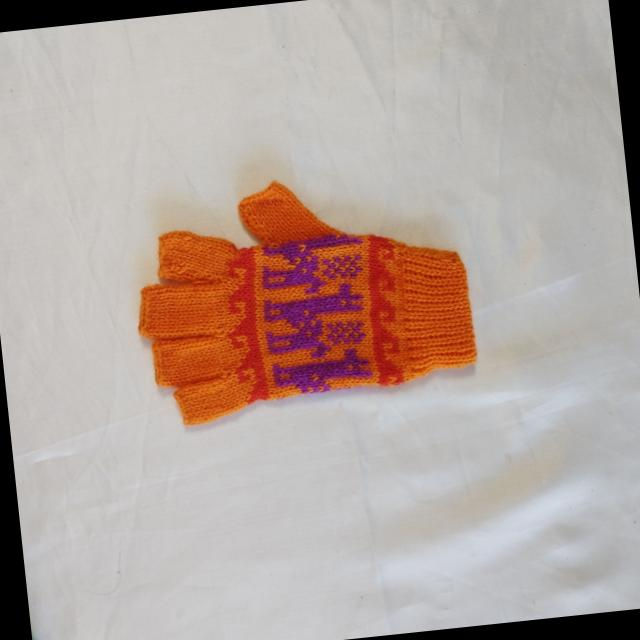Guante: (123, 160, 482, 432)
